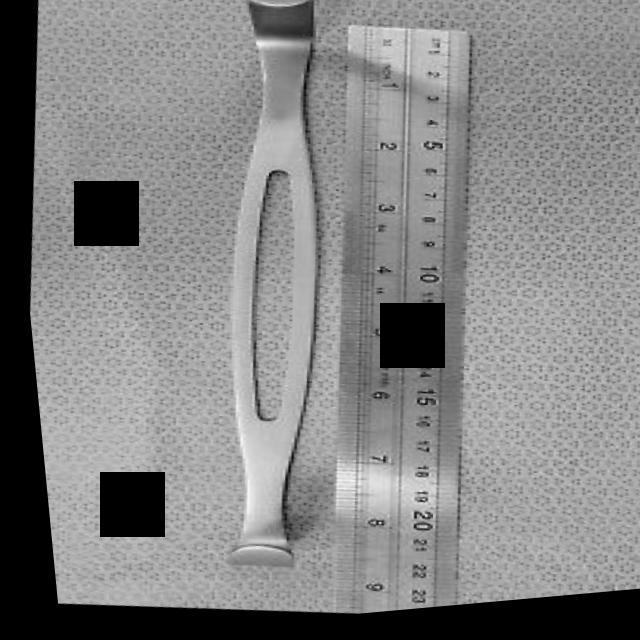Army Navy Retractor: (154, 0, 380, 588)
